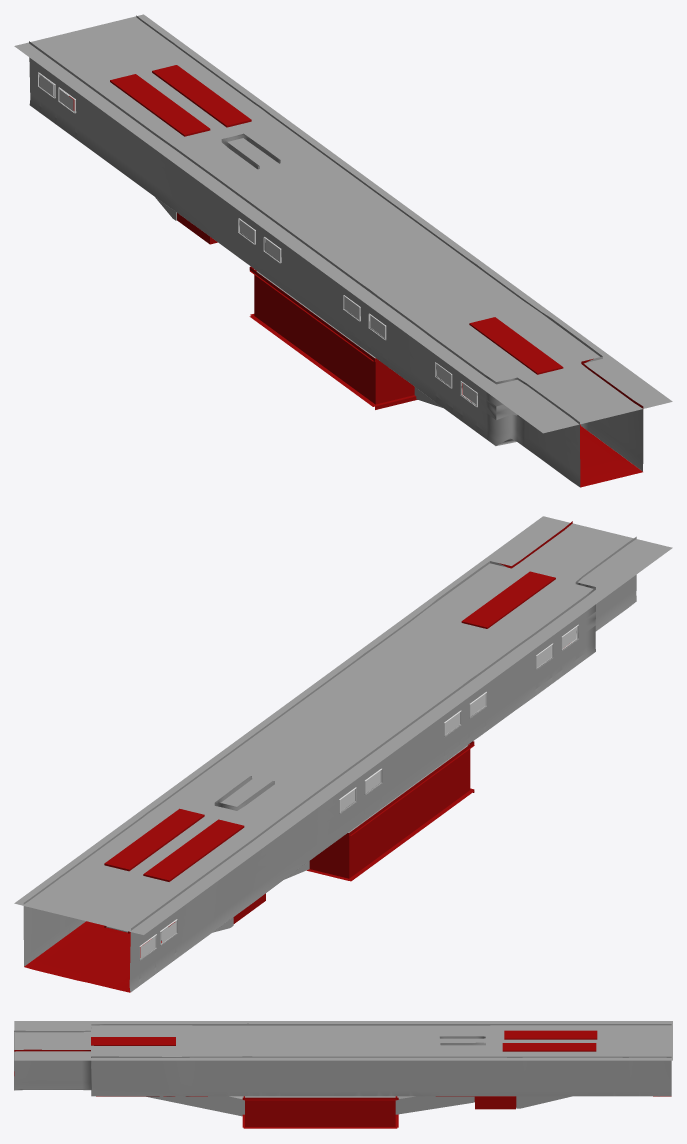
Rendered from Accueil_5L_E_Ev_O+_OM_V.fbx.
3 renders of one model, top to bottom at view 1: azimuth 30°, elevation 25°; view 2: azimuth 150°, elevation 25°; view 3: azimuth 270°, elevation 25°, orthographic. The views are drawn at different scales.
Parts seen in each view (by area): view 1: polySurface54, polySurface39, polySurface44; view 2: polySurface54, polySurface39, polySurface44; view 3: polySurface54.
Part boxes in pixels (x1=…): polySurface54: x1=14, y1=14, x2=672, y2=487; polySurface39: x1=39, y1=74, x2=476, y2=404; polySurface44: x1=38, y1=72, x2=477, y2=407; polySurface54: x1=14, y1=516, x2=672, y2=992; polySurface39: x1=141, y1=627, x2=576, y2=958; polySurface44: x1=139, y1=624, x2=578, y2=960; polySurface54: x1=14, y1=1021, x2=672, y2=1128.
Bounding box in the file's own units: 36.14 × 31.36 × 255.
